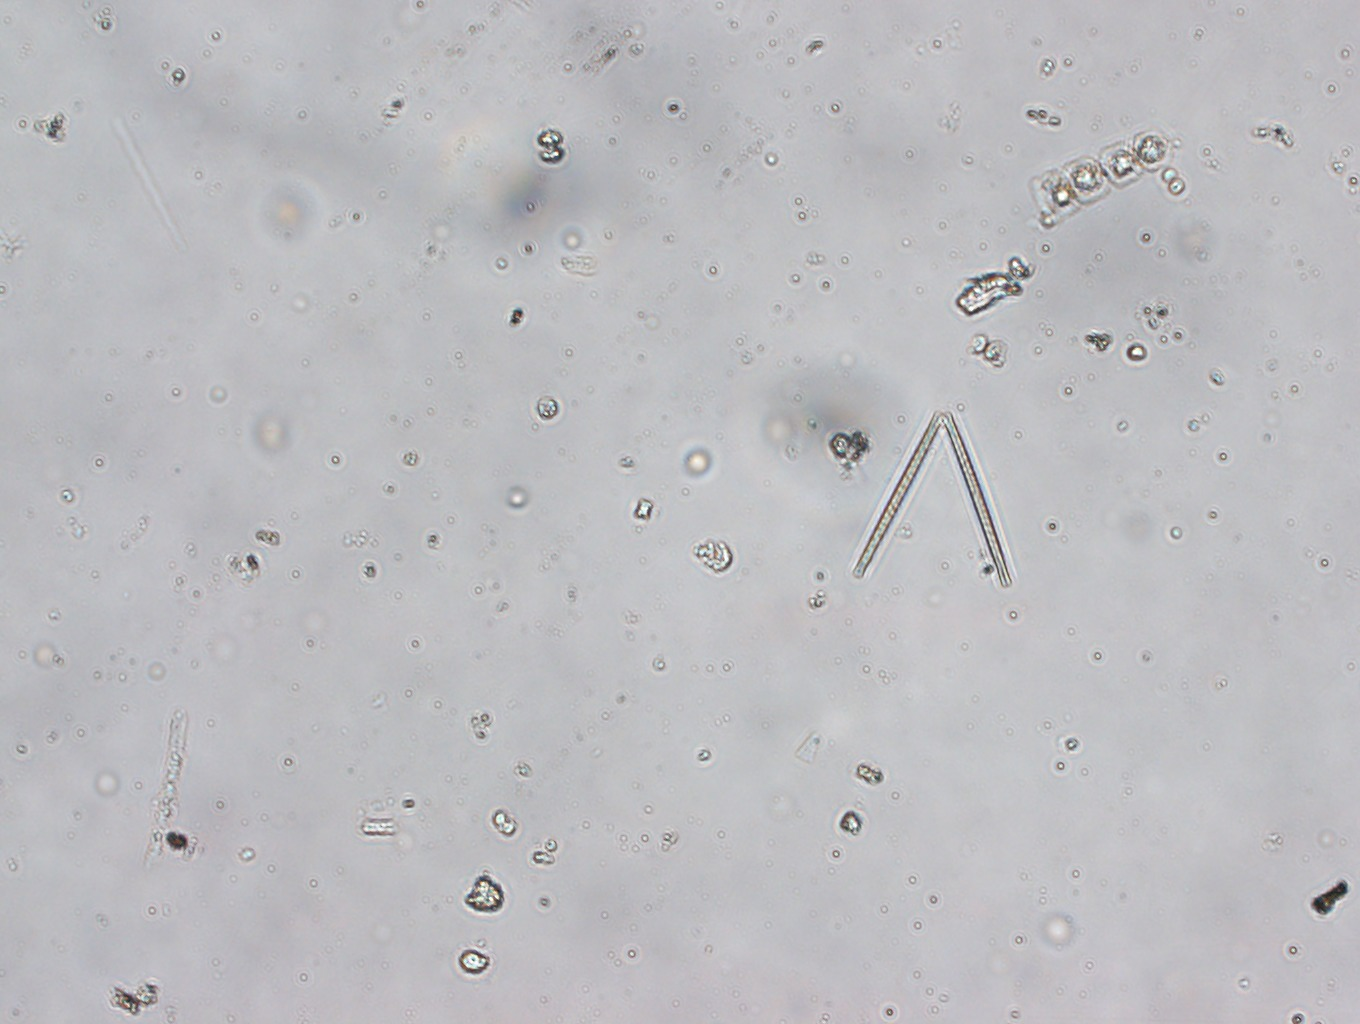detonula pumila: (1002, 125, 1202, 242)
thalassionema frauenfeldii: (845, 406, 1023, 605)
